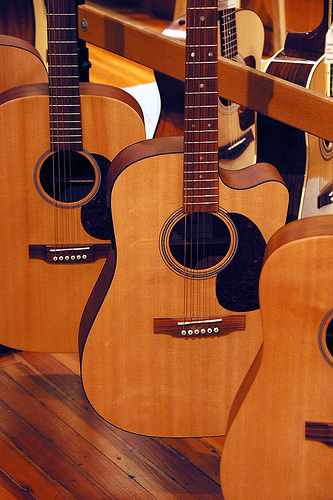guitar: (77, 1, 293, 438), (1, 1, 149, 352)
